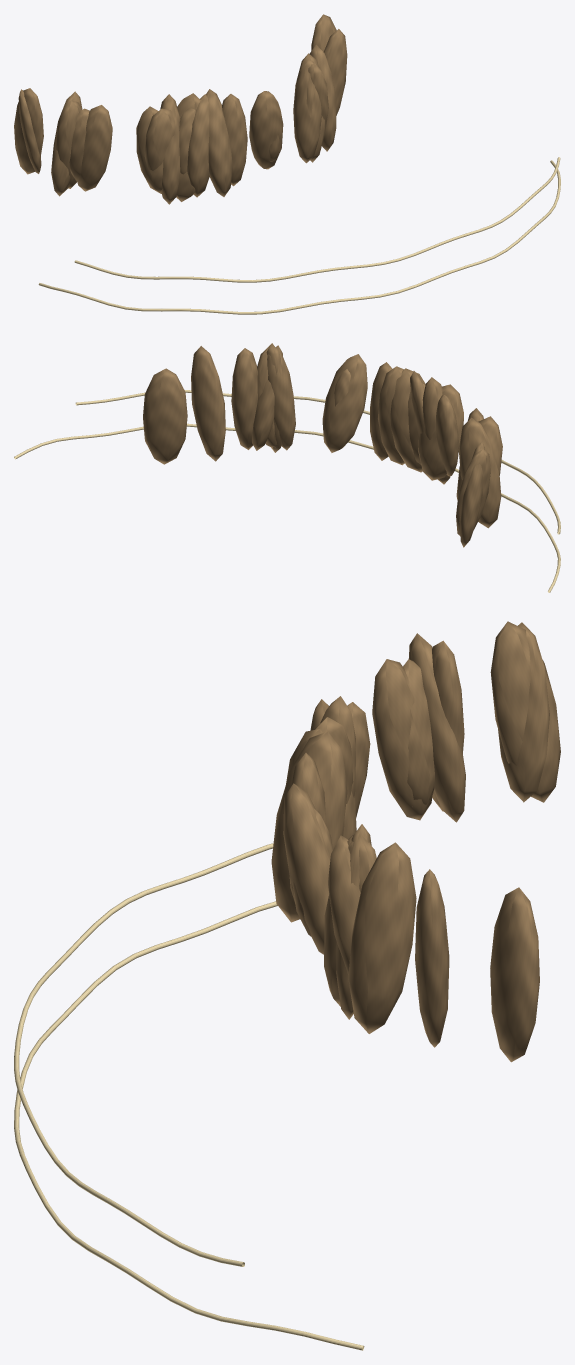
Rendered from Cliff_Details.fbx.
The picture shows the model from 3 angles, top to bottom: view 1: azimuth 30°, elevation 25°; view 2: azimuth 150°, elevation 25°; view 3: azimuth 270°, elevation 25°; orthographic projection. The views are drawn at different scales.
Parts seen in each view (by area): view 1: Cliff_Details; view 2: Cliff_Details; view 3: Cliff_Details.
Boxes of the visible parts, x1,y1,x2,y2 form: Cliff_Details: [14, 14, 560, 314]; Cliff_Details: [14, 343, 560, 592]; Cliff_Details: [14, 621, 560, 1350].
Size of the model in its own units: 5346 by 2708 by 1698.
